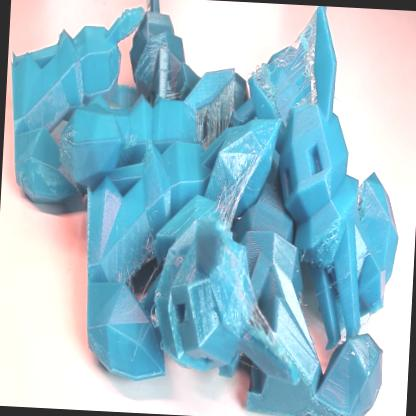fail: (262, 21, 318, 113), (193, 80, 234, 158), (215, 169, 249, 226)
